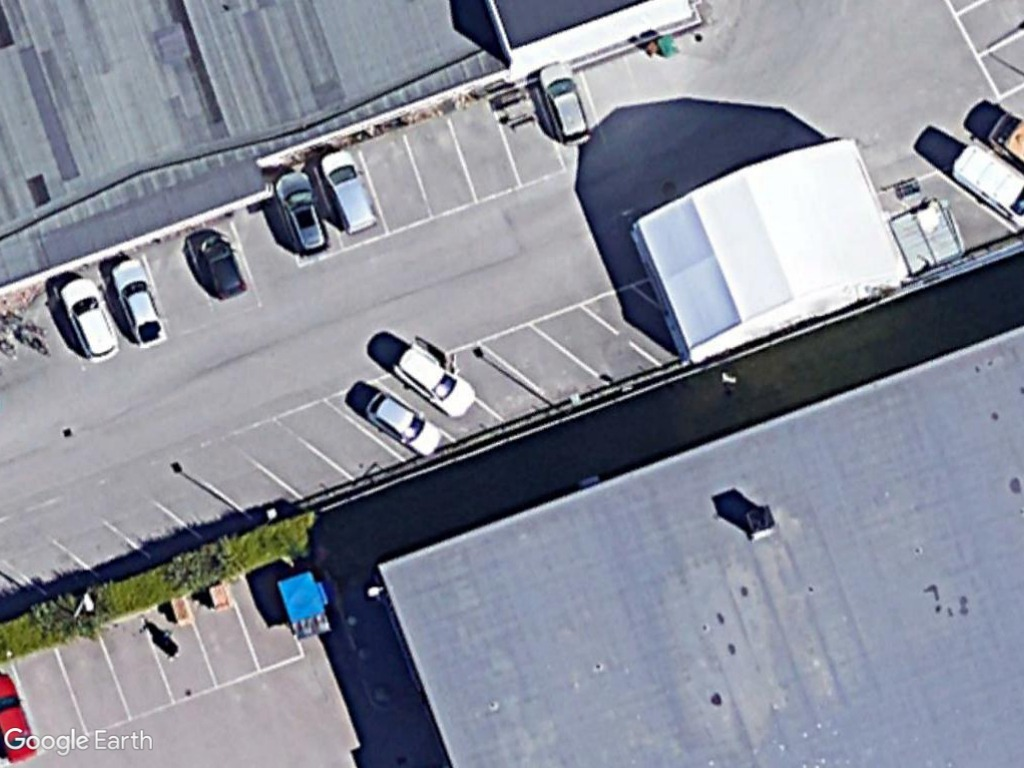car: (390, 342, 479, 419), (319, 147, 384, 241), (272, 168, 335, 262), (57, 274, 122, 365), (109, 258, 171, 353), (360, 389, 445, 458), (535, 59, 595, 147)
